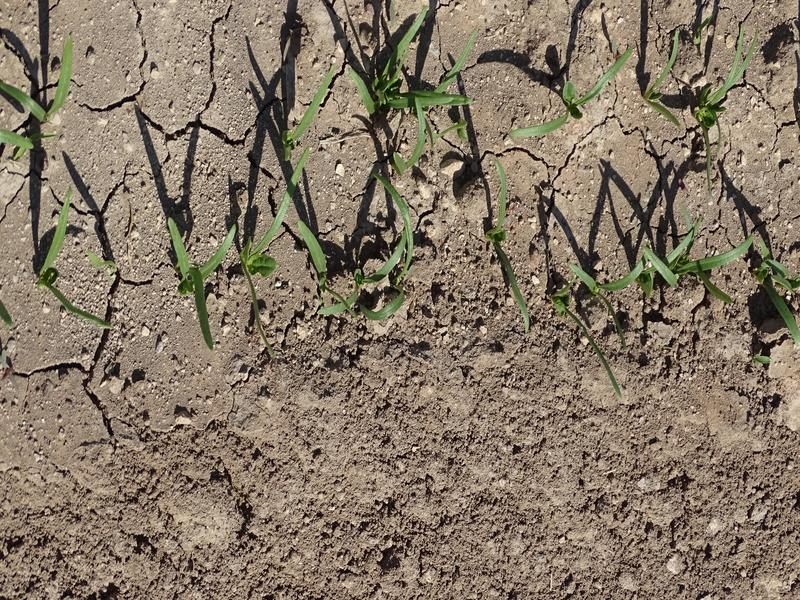Espinaca: (166, 11, 484, 322), (548, 233, 750, 308), (31, 193, 117, 335), (511, 47, 638, 141), (649, 37, 755, 134), (483, 161, 540, 327), (1, 34, 76, 149), (757, 251, 800, 339)
